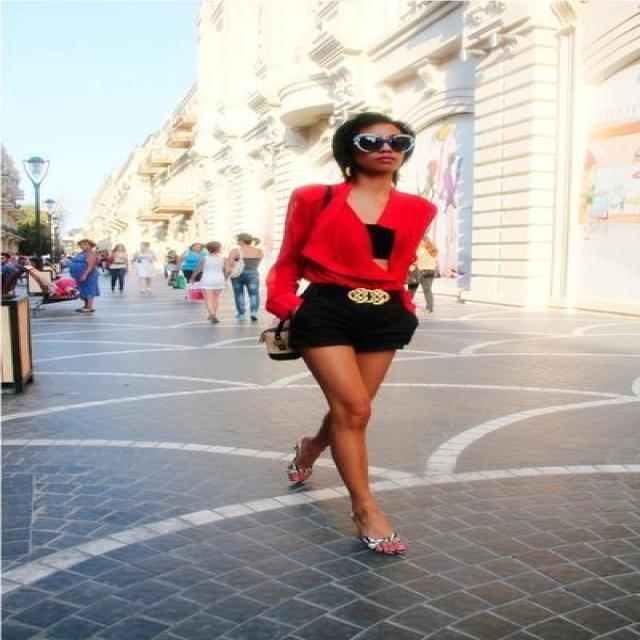shirt: (266, 184, 435, 312)
shorts: (268, 283, 418, 370)
skirt: (366, 224, 397, 258)
